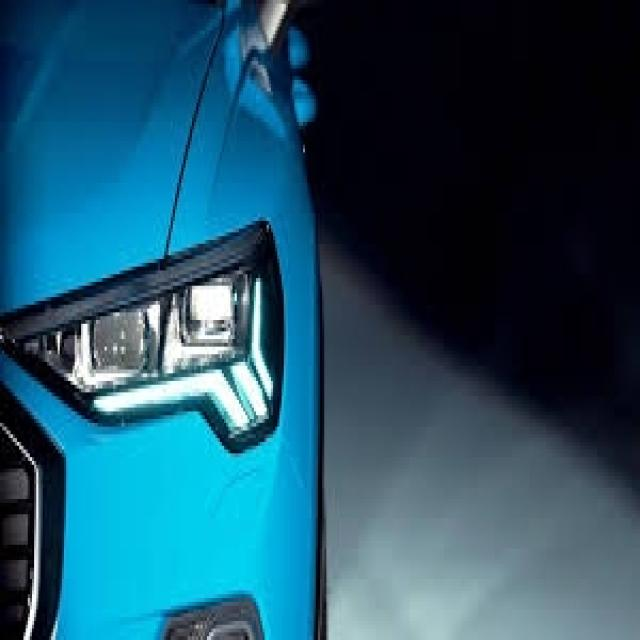blue: (0, 0, 342, 640)
